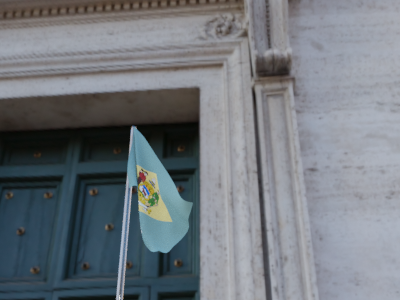Delaware flag: (127, 124, 194, 256)
